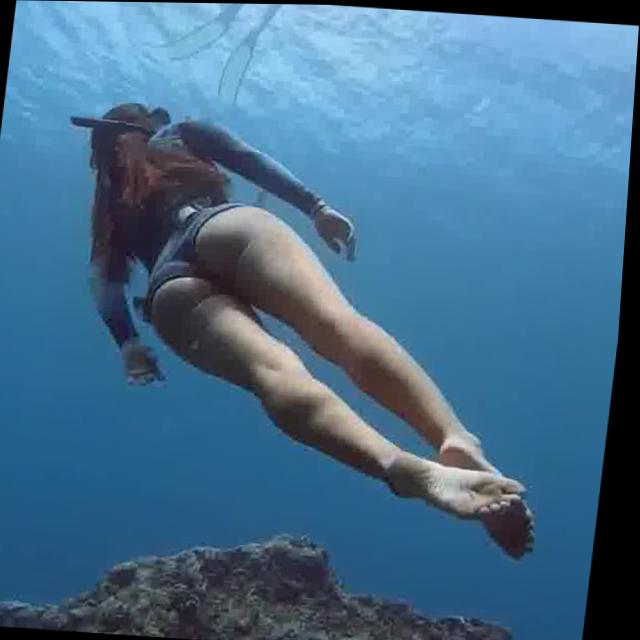human: (20, 89, 610, 569)
